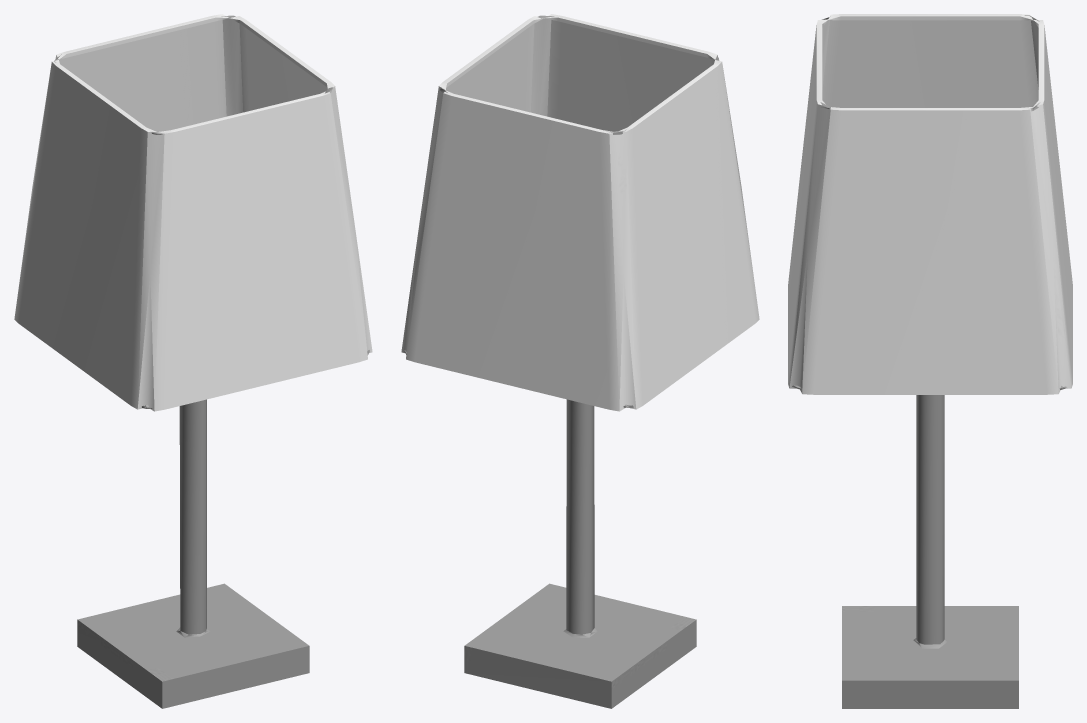
File: Light0006.obj
3 views of the same model, side by side, from view 1: azimuth 30°, elevation 25°; view 2: azimuth 150°, elevation 25°; view 3: azimuth 270°, elevation 25° (orthographic). The views are drawn at different scales.
Bounding box in the file's own units: 0.2 × 0.472 × 0.2.
Materials: 1 (1 with a texture image).
